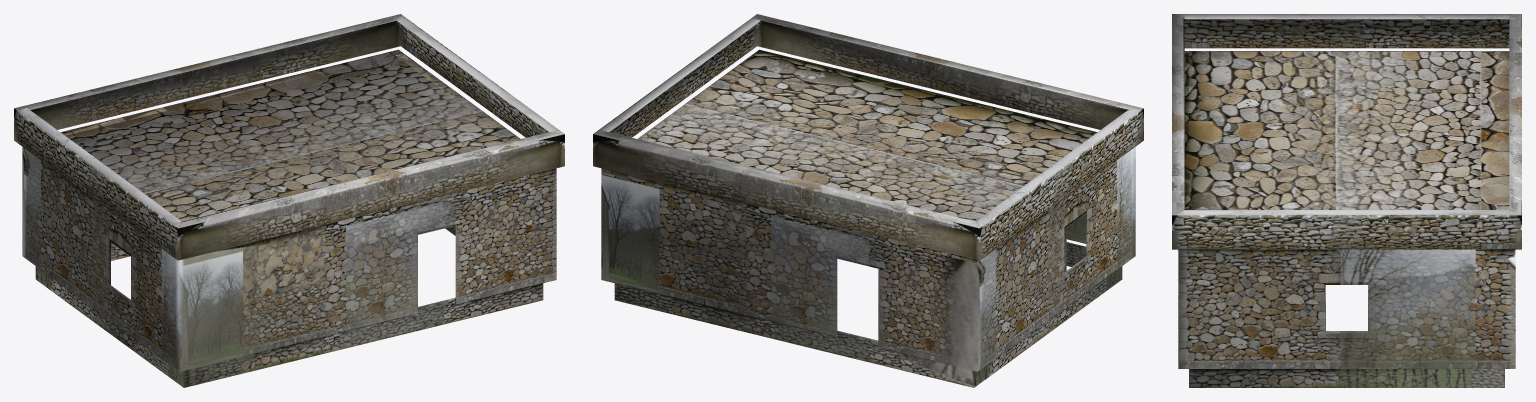
Rendered from skin_flak_farmhouse.glb.
The picture shows the model from 3 angles, left to right: view 1: azimuth 30°, elevation 25°; view 2: azimuth 150°, elevation 25°; view 3: azimuth 270°, elevation 25°; orthographic projection. The views are drawn at different scales.
Visible parts, largest first — view 1: Farmhouse; view 2: Farmhouse; view 3: Farmhouse.
Part boxes in pixels (x1=…): Farmhouse: x1=14, y1=14, x2=564, y2=387; Farmhouse: x1=593, y1=14, x2=1143, y2=387; Farmhouse: x1=1172, y1=14, x2=1521, y2=387.
Bounding box in the file's own units: 11.3 × 4.71 × 8.3.
1 material, 1 textured.
